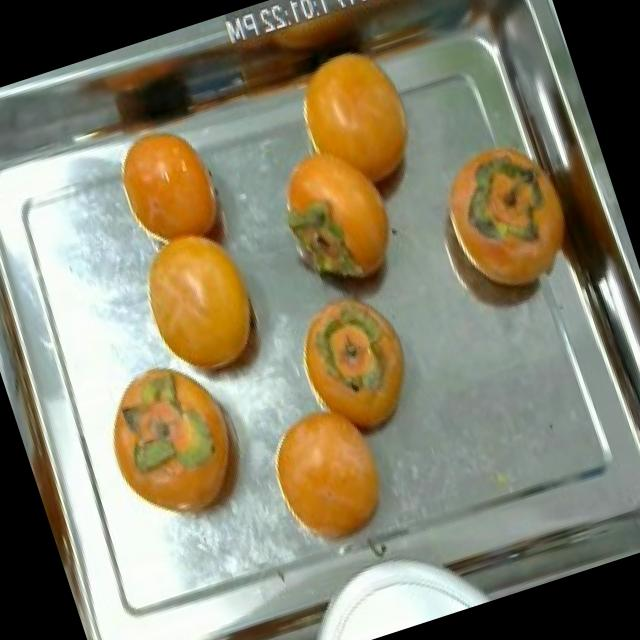Fruit: (78, 336, 272, 552), (116, 205, 290, 412), (240, 376, 418, 577), (269, 21, 436, 206), (256, 120, 416, 307), (280, 281, 438, 459), (101, 112, 245, 271)
